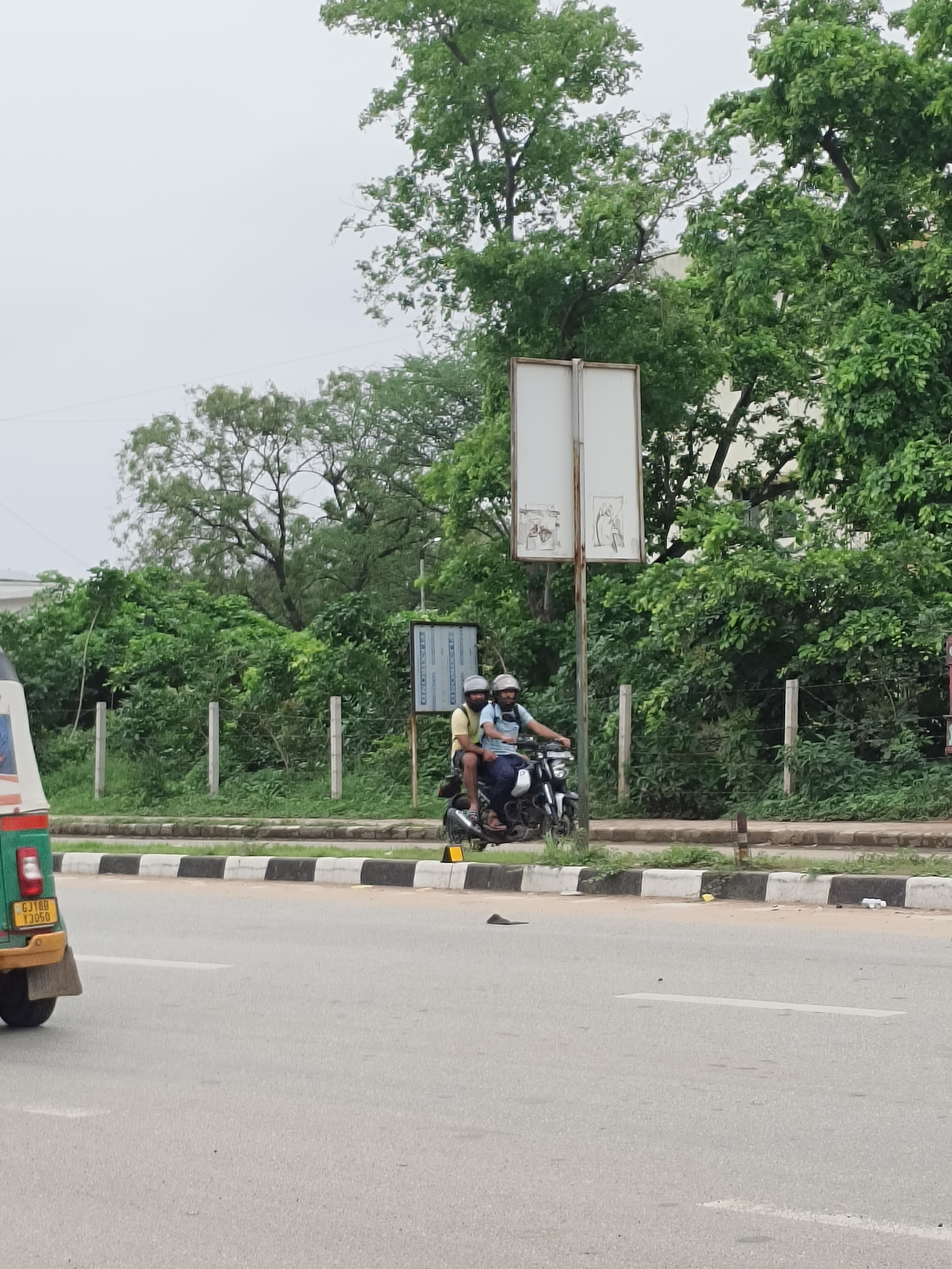BikeWithRider: (436, 671, 582, 850)
Helmet: (492, 672, 522, 710), (463, 672, 491, 711)
